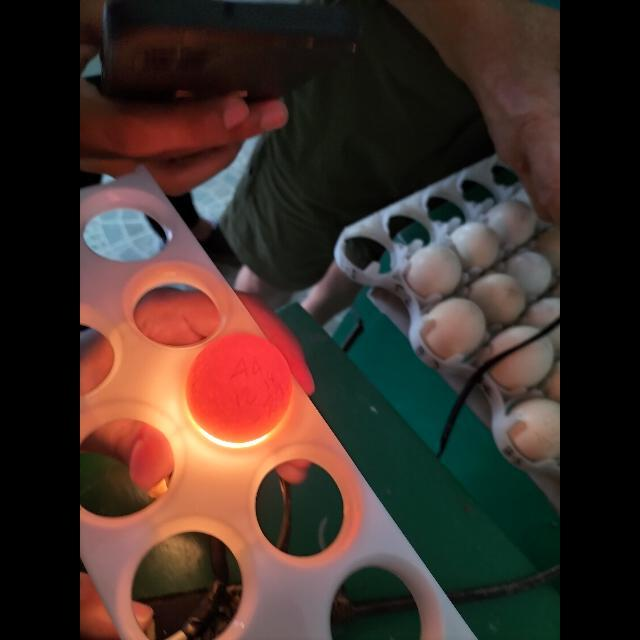Infertile: (184, 331, 296, 452)
